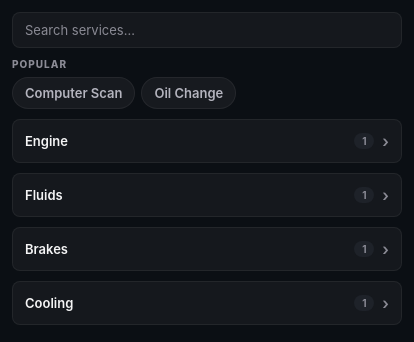
Test: ServicePicker — grouped mode (mechanic) › search flattens results across all categories
Type "radiator" into the field with placeholder "Search services…" at (207, 30), box [12, 12, 402, 48]
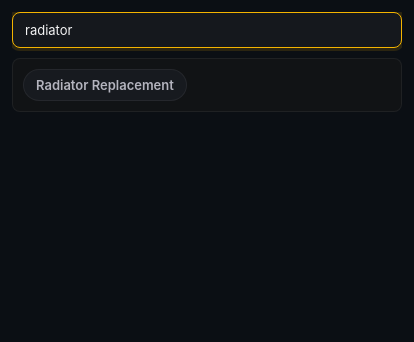
Check: the button "Radiator Replacement" is shown, box [23, 69, 187, 101]
Check: the button "Computer Scan" is gone
